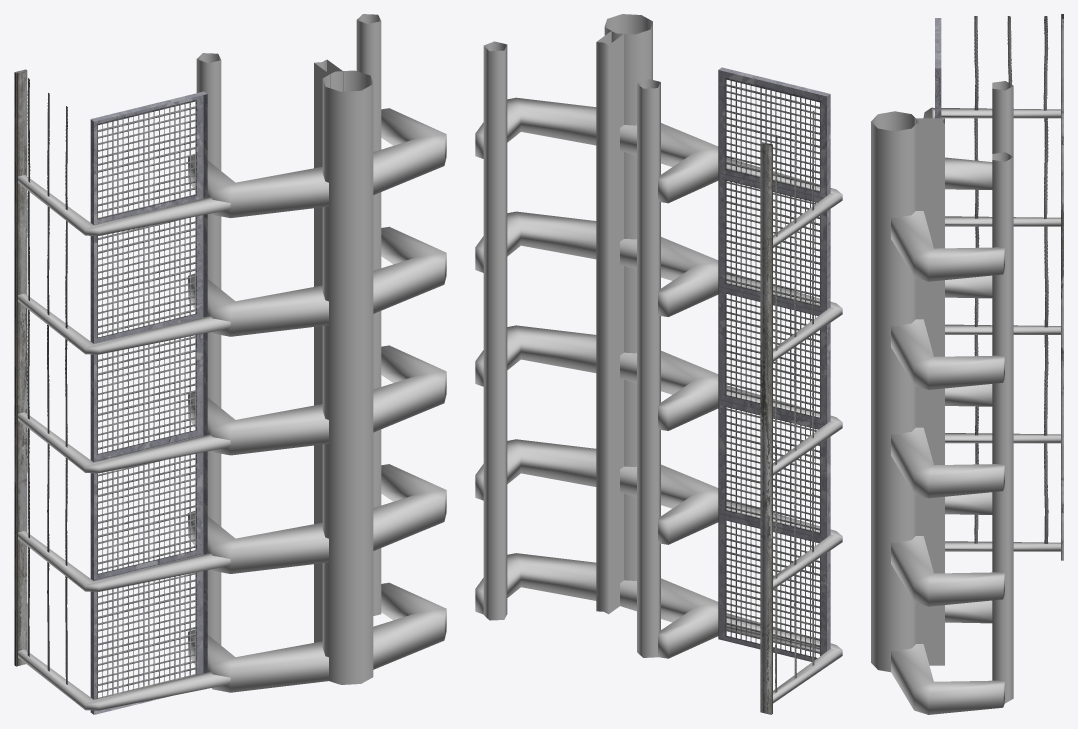
The model's file is steel 1 lift.fbx.
3 views of the same model, side by side, from view 1: azimuth 30°, elevation 25°; view 2: azimuth 150°, elevation 25°; view 3: azimuth 270°, elevation 25° (orthographic). The views are drawn at different scales.
Visible parts, largest first — view 1: Circle_001; view 2: Circle_001; view 3: Circle_001.
Part boxes in pixels (x1,y1,x2,y2): Circle_001: (14, 14, 446, 714); Circle_001: (475, 14, 842, 714); Circle_001: (871, 14, 1063, 714).
Size of the model in its own units: 3.17 by 5 by 1.61.
